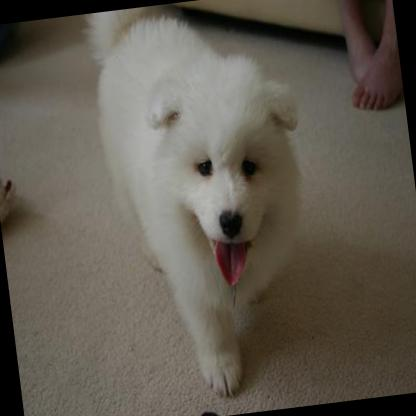Samoyed: (79, 0, 338, 416)
